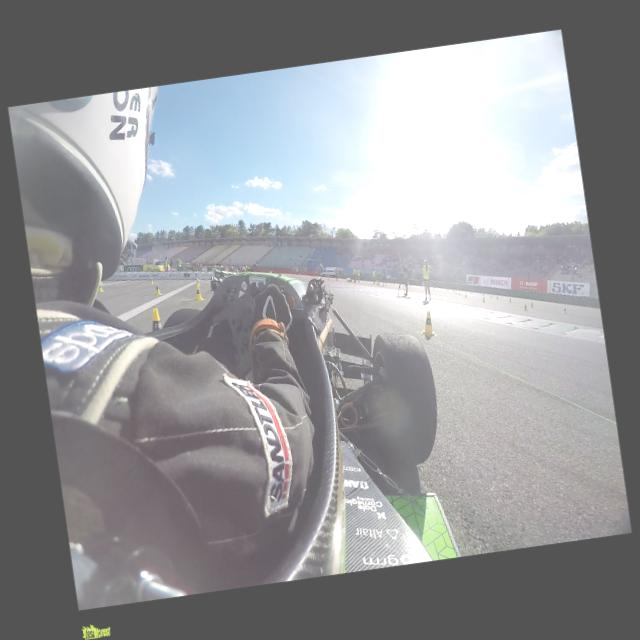yellow_cone: (418, 310, 436, 338), (150, 307, 163, 331), (193, 284, 203, 300), (155, 284, 161, 295), (98, 284, 103, 292), (195, 278, 200, 286), (523, 304, 527, 312), (150, 277, 154, 284), (481, 296, 485, 302), (530, 302, 534, 308), (563, 308, 567, 314), (508, 298, 512, 302), (495, 296, 499, 300), (464, 293, 467, 298), (458, 292, 461, 296), (490, 294, 492, 298), (456, 290, 458, 294)
